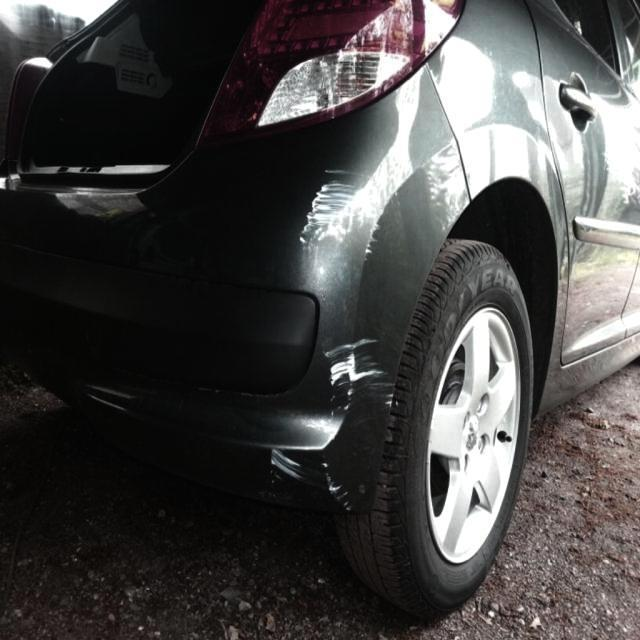minor: (295, 162, 374, 246), (326, 338, 395, 419), (271, 448, 352, 513)
